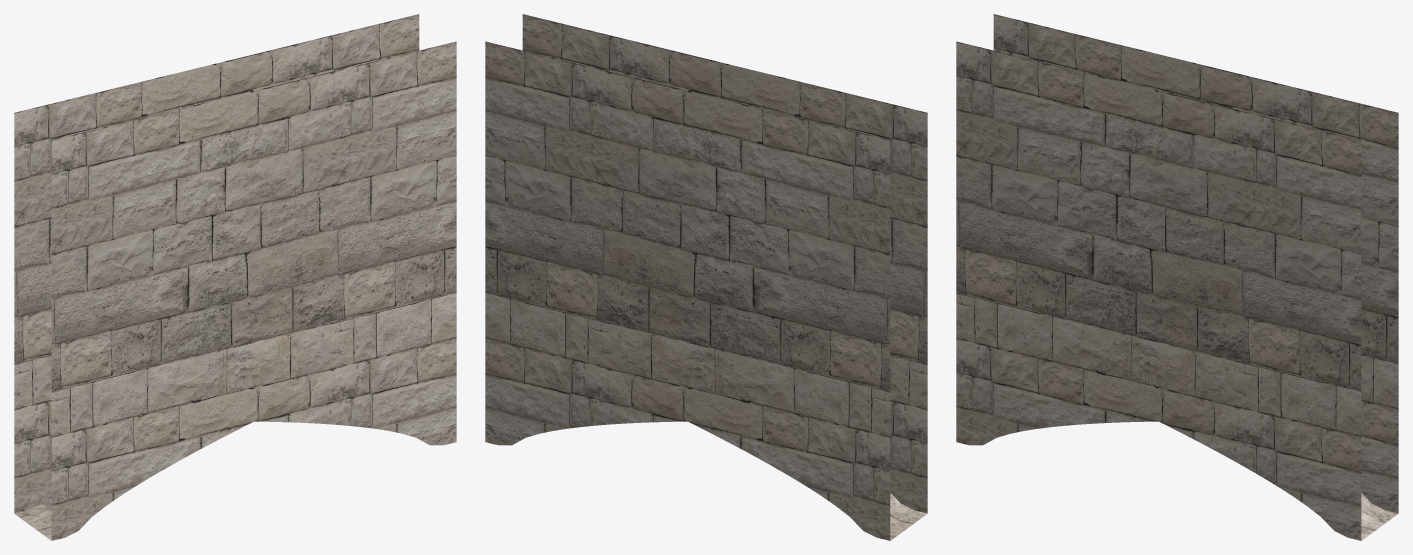
The model's file is stair_portal_cap.glb.
The picture shows the model from 3 angles, left to right: view 1: azimuth 30°, elevation 25°; view 2: azimuth 150°, elevation 25°; view 3: azimuth 330°, elevation 25°; orthographic projection.
Visible parts, largest first — view 1: Pointed stair portal and gable; view 2: Pointed stair portal and gable; view 3: Pointed stair portal and gable.
Boxes of the visible parts, box(x1,y1,x2,y2) form: Pointed stair portal and gable: box(14, 14, 456, 540); Pointed stair portal and gable: box(485, 14, 927, 540); Pointed stair portal and gable: box(956, 14, 1398, 540).
Size of the model in its own units: 4 by 3.78 by 0.64.
Materials: 1 (1 with a texture image).
